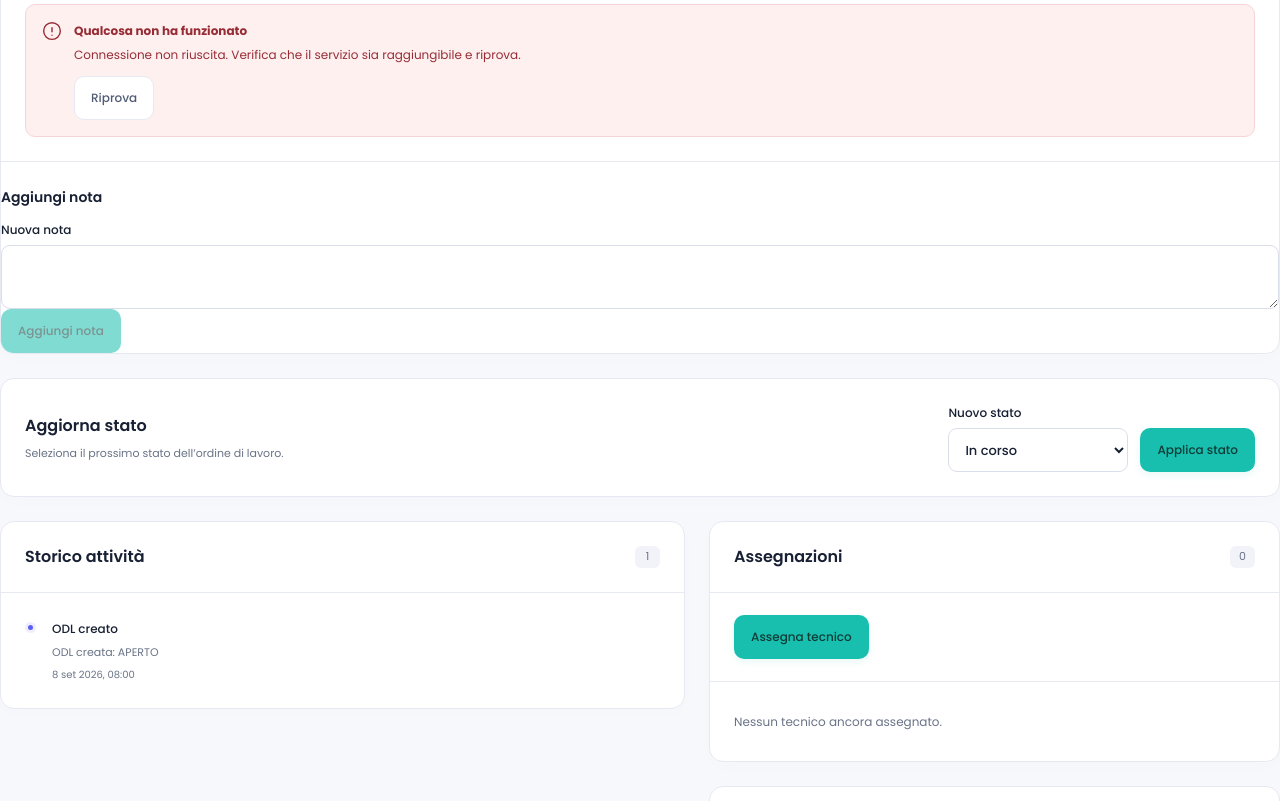
Scenario: shows creation success and all related sections; updates status and history
The image size is (1280, 801).
(page scrolled)
Expected: the text "ODL creata: APERTO" is shown, [52,644,159,662]
Expected: the text "Nessun tecnico ancora assegnato." is shown, [734,713,942,730]
Step 1. Click the button "Applica stato" → (1198, 450), box [1140,428,1255,472]
(page scrolled)
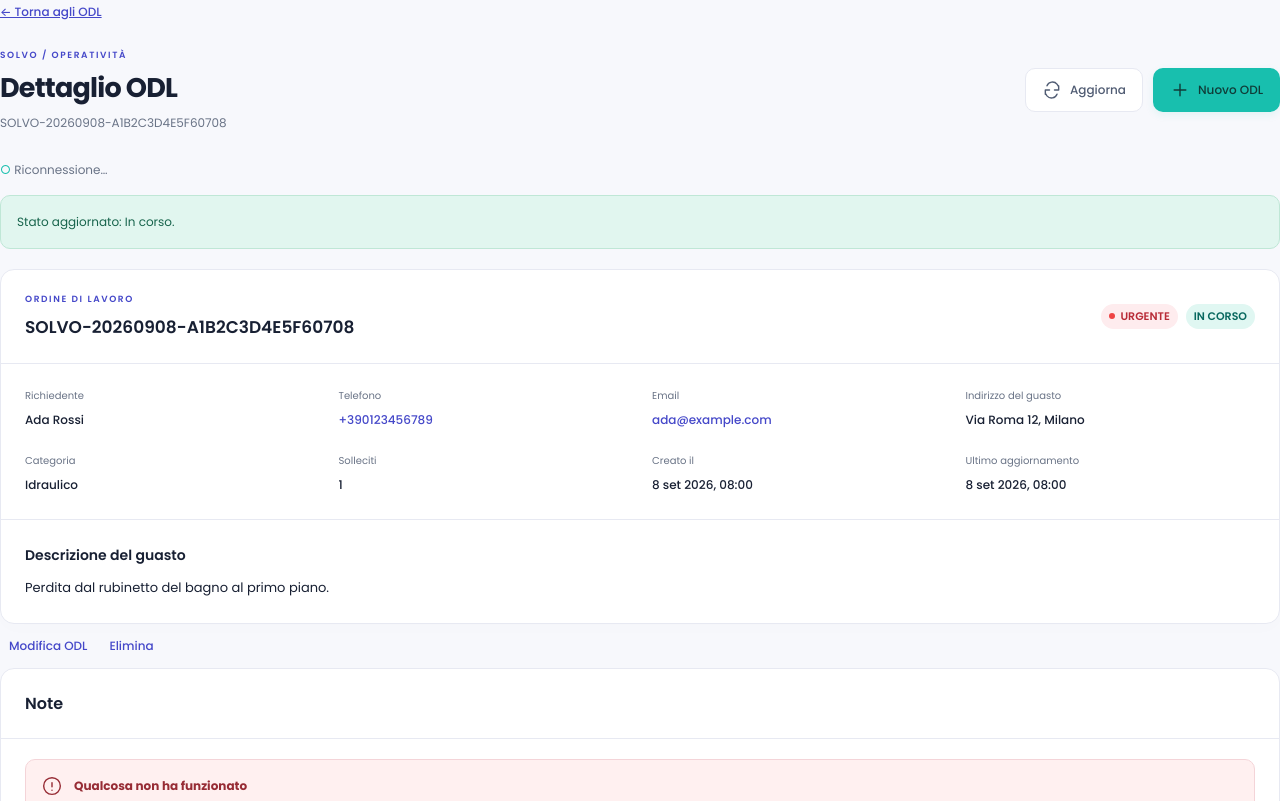
Expected: the text "Stato aggiornato: In corso." is shown, [0,196,1279,249]
